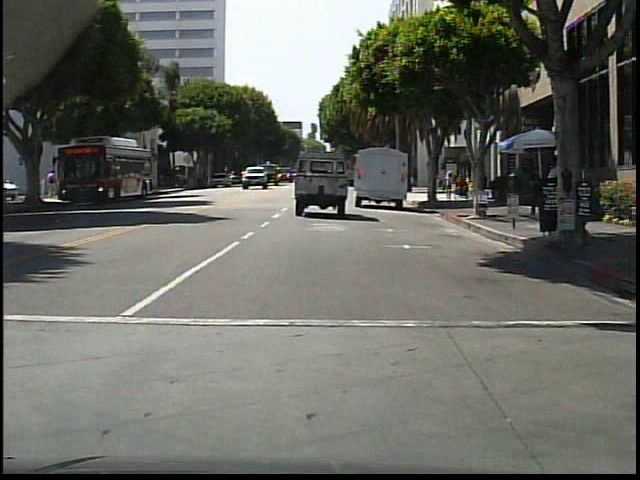person: (525, 166, 542, 217), (443, 170, 454, 202), (433, 167, 443, 202), (49, 171, 60, 200)
